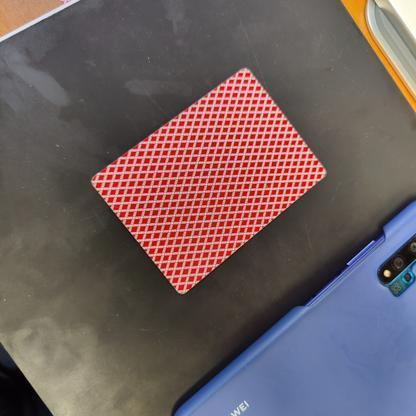card: (81, 55, 334, 299)
